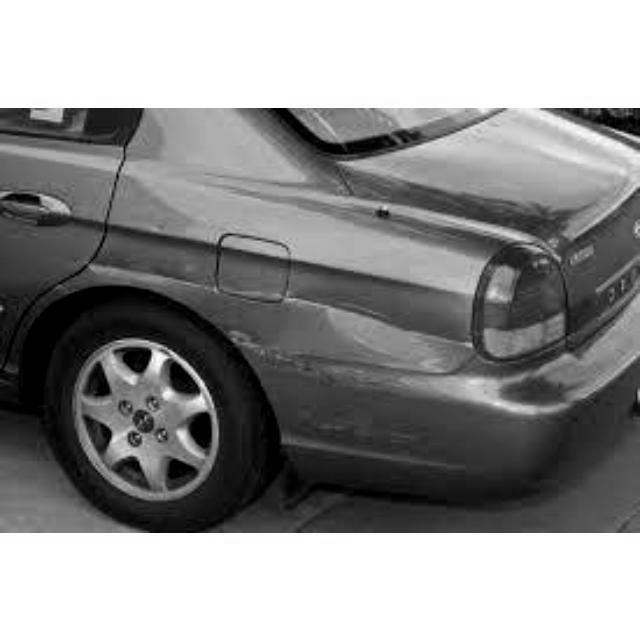quaterpanel-dent: (112, 175, 456, 421)
